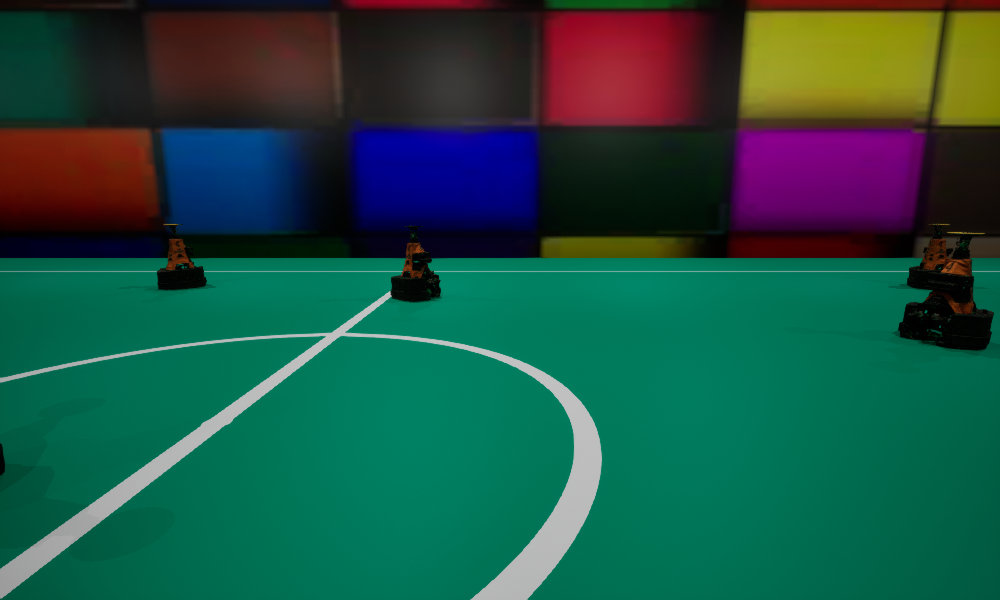0 orange robot TechUnited: (898, 232, 993, 349), (391, 225, 440, 301), (157, 224, 206, 289), (907, 224, 952, 289), (0, 443, 4, 474)
